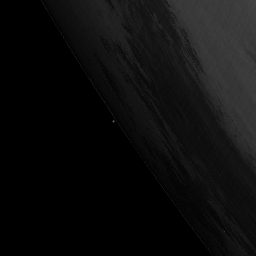Target: (111, 119, 117, 124)
